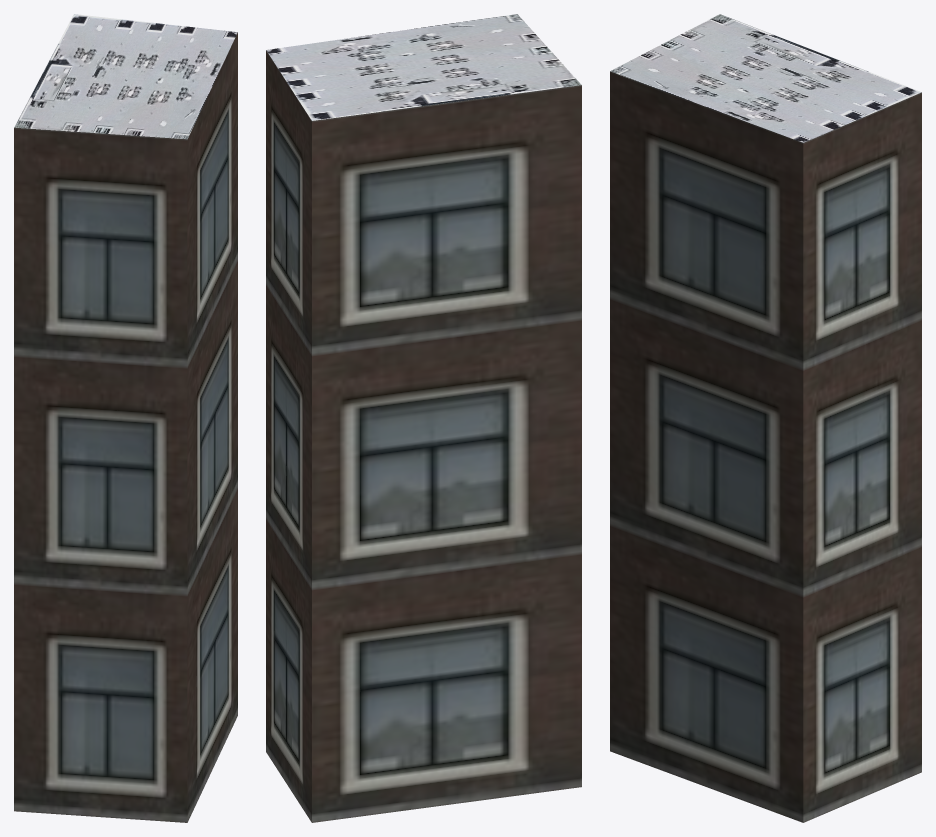
Rendered from ResTex__4237.fbx.
3 views of the same model, side by side, from view 1: azimuth 30°, elevation 25°; view 2: azimuth 150°, elevation 25°; view 3: azimuth 270°, elevation 25° (orthographic). The views are drawn at different scales.
Parts seen in each view (by area): view 1: CityEngineMaterial_16_m, CityEngineMaterial_15_m; view 2: CityEngineMaterial_16_m, CityEngineMaterial_15_m; view 3: CityEngineMaterial_16_m, CityEngineMaterial_15_m.
Boxes of the visible parts, x1,y1,x2,y2 form: CityEngineMaterial_16_m: (14,32,237,822); CityEngineMaterial_15_m: (14,14,237,139); CityEngineMaterial_16_m: (266,50,581,822); CityEngineMaterial_15_m: (266,14,581,120); CityEngineMaterial_16_m: (610,71,921,822); CityEngineMaterial_15_m: (610,14,921,142).
Bounding box in the file's own units: 3.66 × 9 × 3.74.
Materials: 2 (2 with a texture image).
